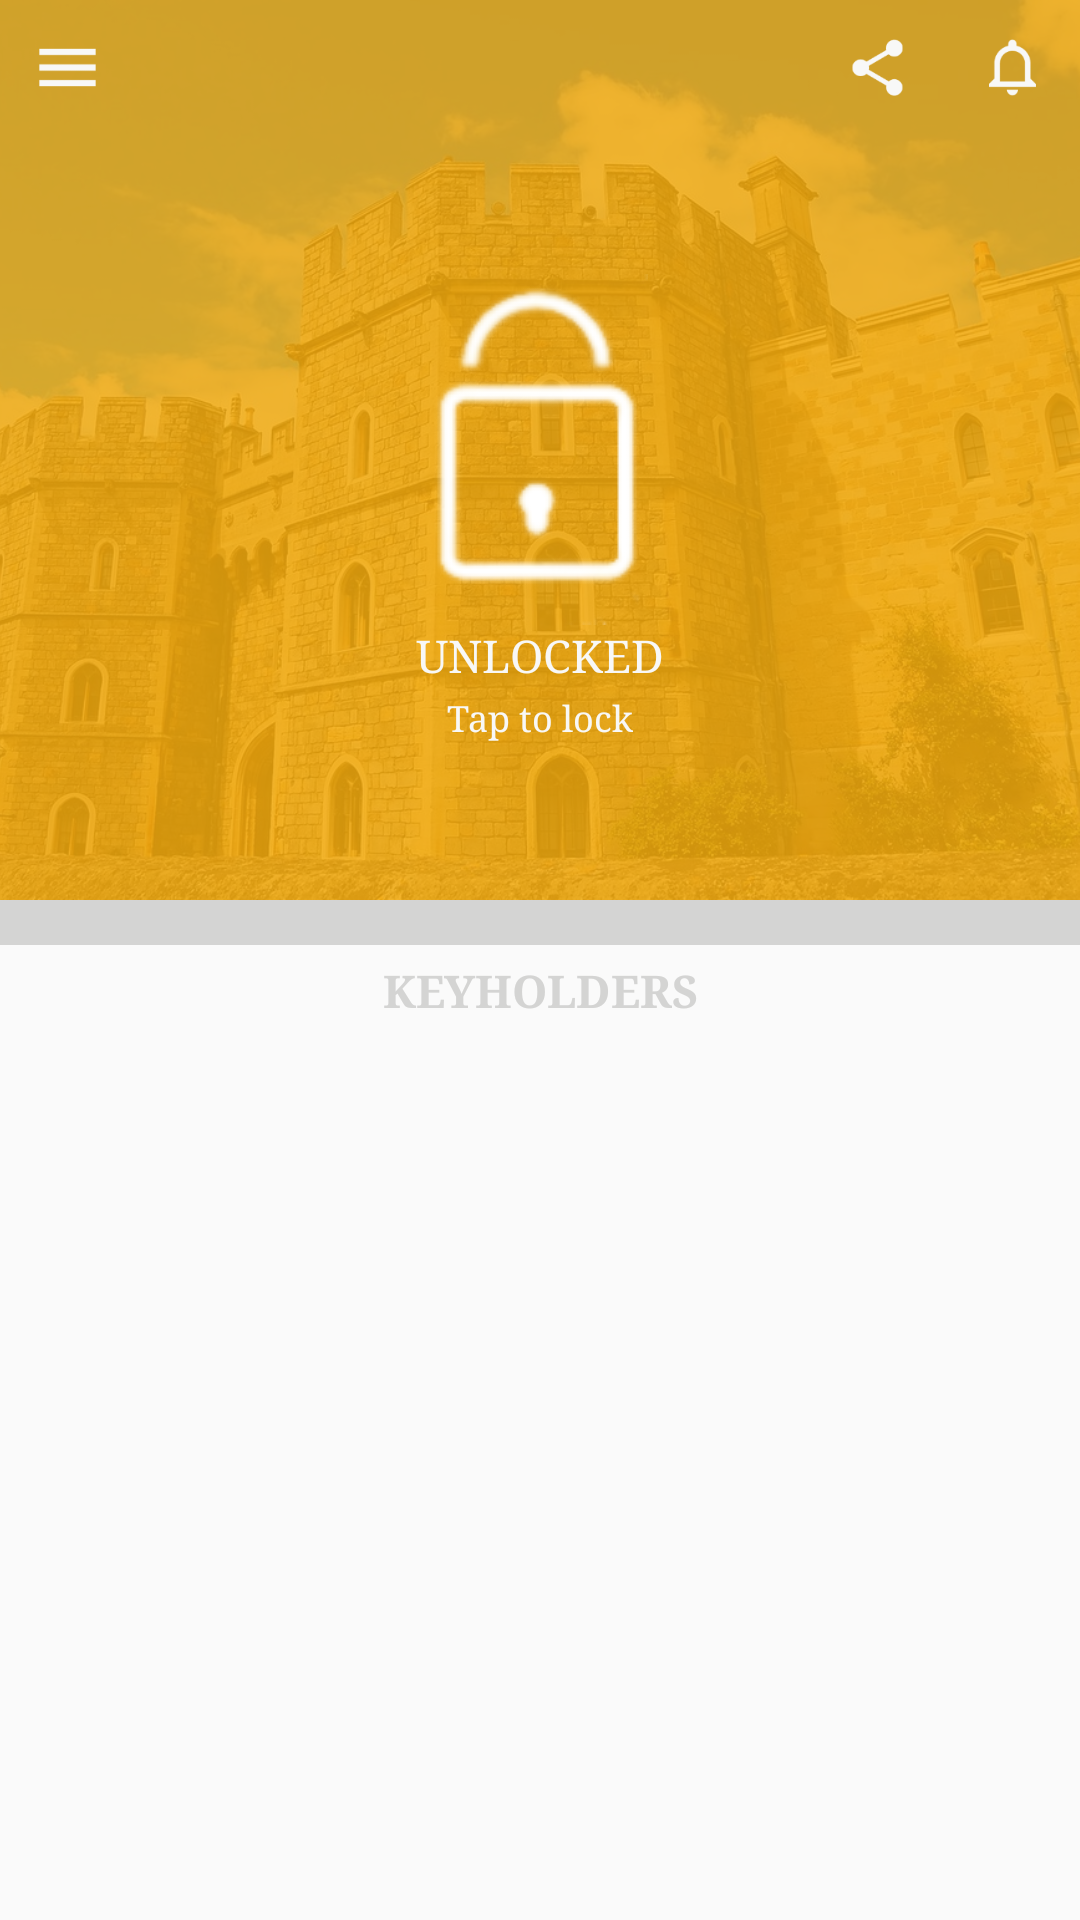

Icon bounding boxes for this 1080 × 1920 phone screenshot, format box=[x1, y1, x2, y2]:
navigation menu: box=[39, 48, 96, 87]
share: box=[852, 39, 903, 96]
social notifications none: box=[989, 39, 1036, 96]
